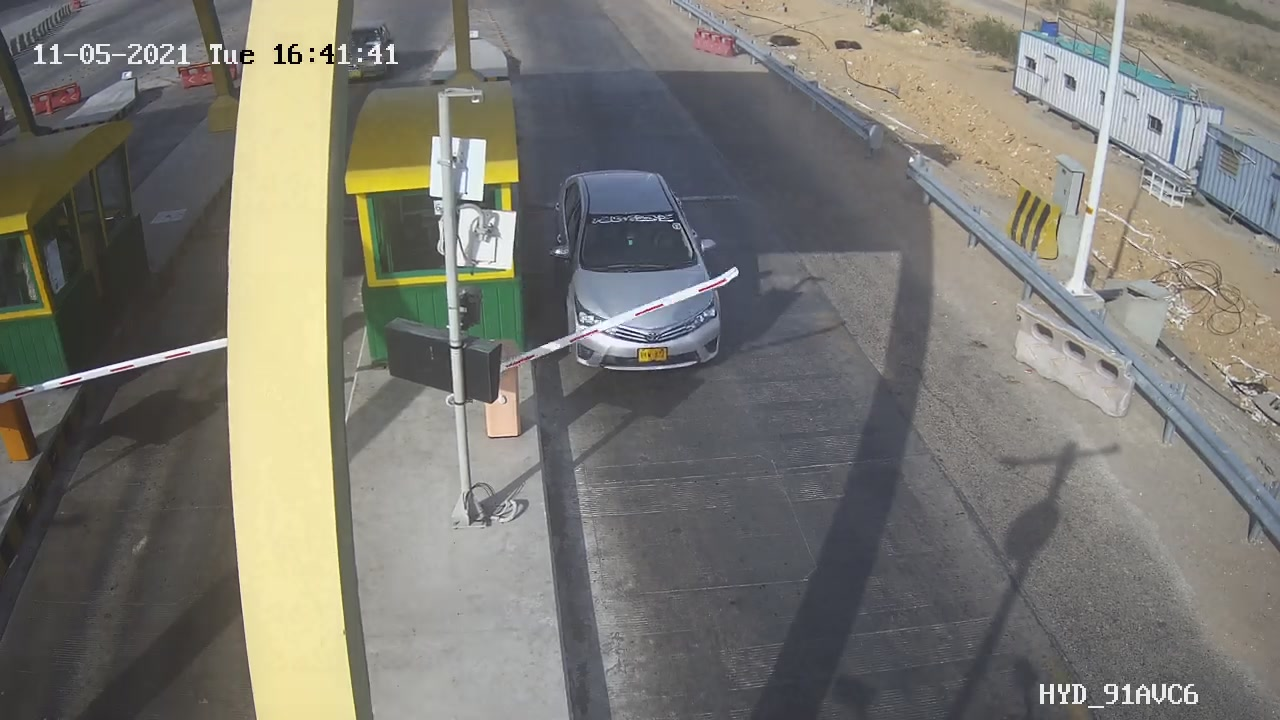F1: (534, 152, 743, 391)
